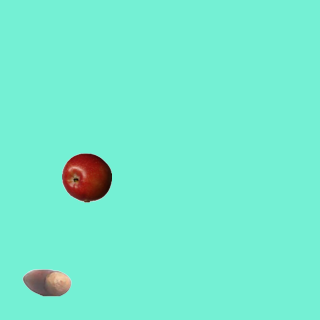Apple Braeburn: (61, 152, 111, 202)
Hazelnut: (21, 257, 71, 307)
